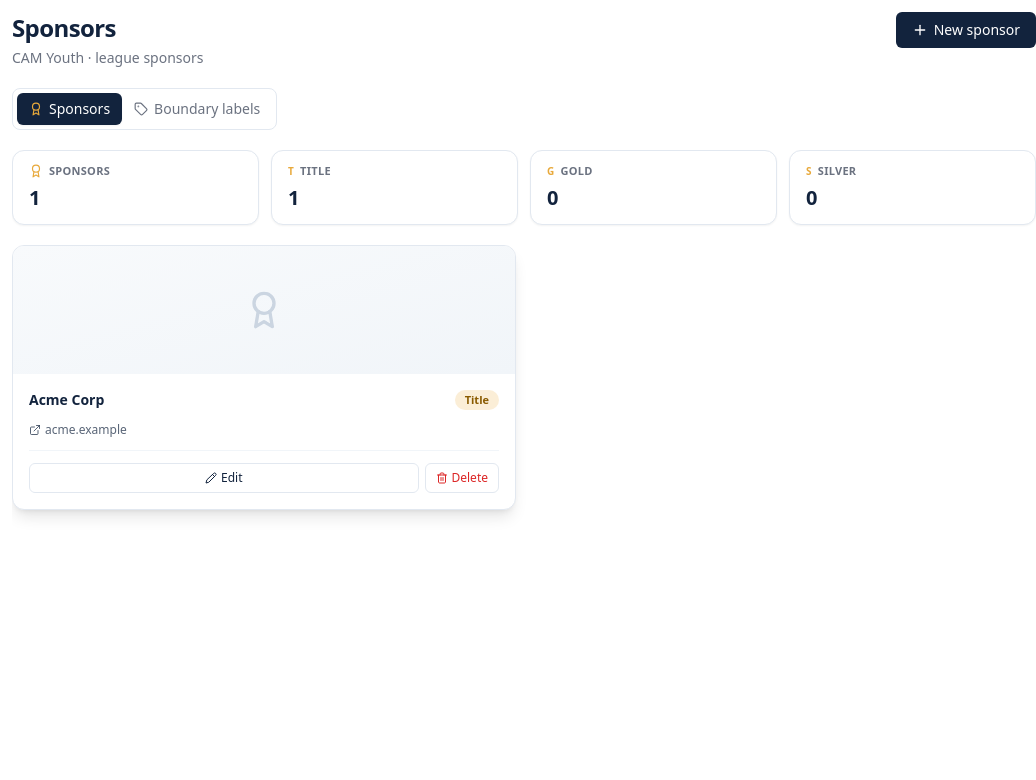
Test: SponsorsPage › shows boundary labels tab content
The image size is (1036, 780).
Click the tab "Boundary labels".
click(197, 109)  # box [122,93,272,125]
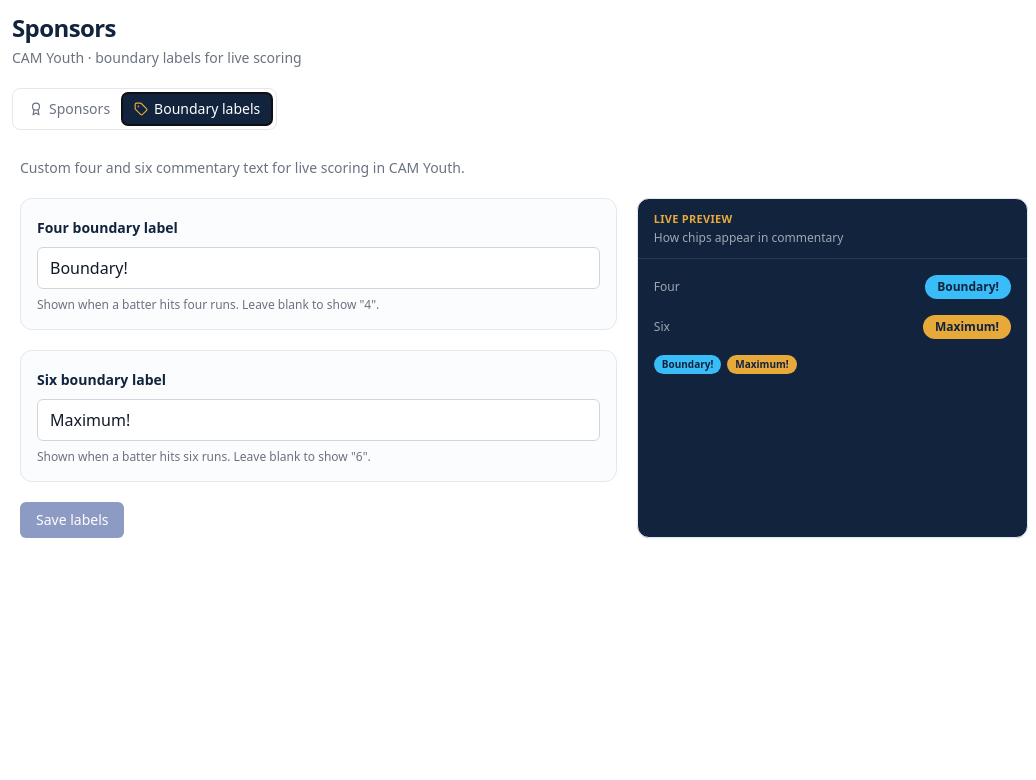
Expected: the field labelled "Four boundary label" is shown, [37,247,600,289]
Expected: the field labelled "Six boundary label" is shown, [37,399,600,441]
